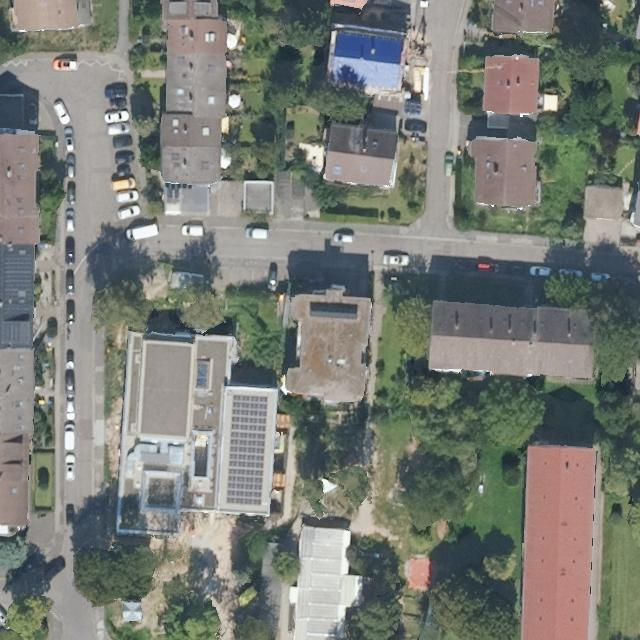PV: (224, 393, 269, 508), (3, 252, 34, 313), (2, 319, 32, 346)
